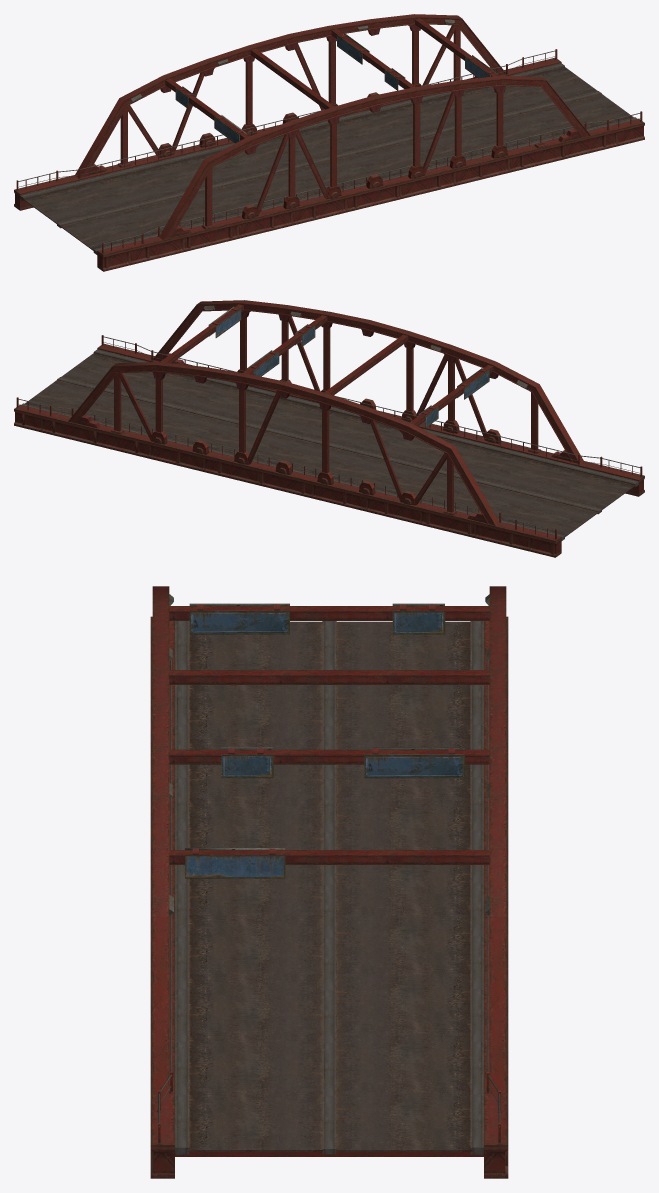
Rendered from Building_TrackBridge004.glb.
The picture shows the model from 3 angles, top to bottom: view 1: azimuth 30°, elevation 25°; view 2: azimuth 150°, elevation 25°; view 3: azimuth 270°, elevation 25°; orthographic projection. The views are drawn at different scales.
Parts seen in each view (by area): view 1: track_bridge004; view 2: track_bridge004; view 3: track_bridge004.
Boxes of the visible parts, <box> form: track_bridge004: <box>14,14,644,271</box>; track_bridge004: <box>14,300,644,557</box>; track_bridge004: <box>150,586,508,1178</box>.
Size of the model in its own units: 102 by 19.01 by 29.15.
1 material, 1 textured.
